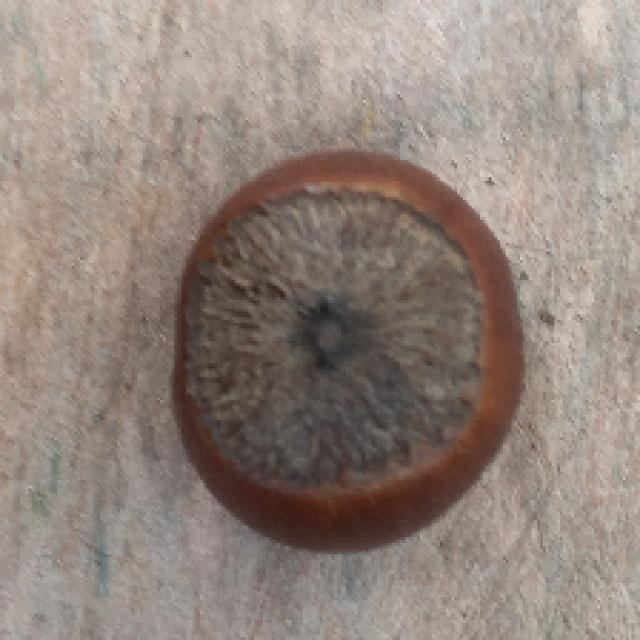damagedHazelnut: (164, 147, 537, 556)
